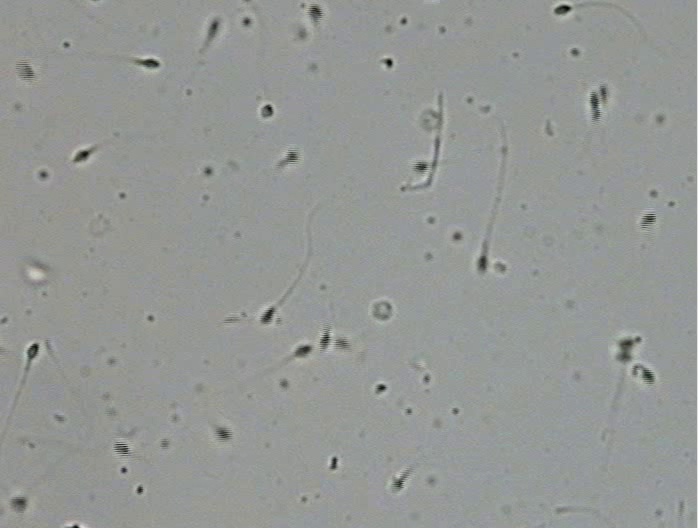Impurity: (372, 300, 392, 320)
S: (15, 60, 35, 82), (588, 90, 601, 123), (616, 338, 633, 363), (307, 4, 323, 24), (214, 426, 233, 441), (113, 441, 130, 457), (640, 212, 656, 229), (260, 306, 275, 324), (10, 496, 26, 512), (137, 58, 160, 69), (641, 367, 655, 385), (294, 345, 313, 357), (73, 149, 90, 162), (26, 343, 39, 360), (319, 332, 331, 350), (285, 149, 299, 164), (208, 19, 219, 38), (412, 161, 428, 173), (477, 254, 487, 273), (261, 104, 274, 118), (599, 84, 608, 103), (554, 5, 571, 15), (391, 478, 405, 490), (334, 338, 349, 349)
